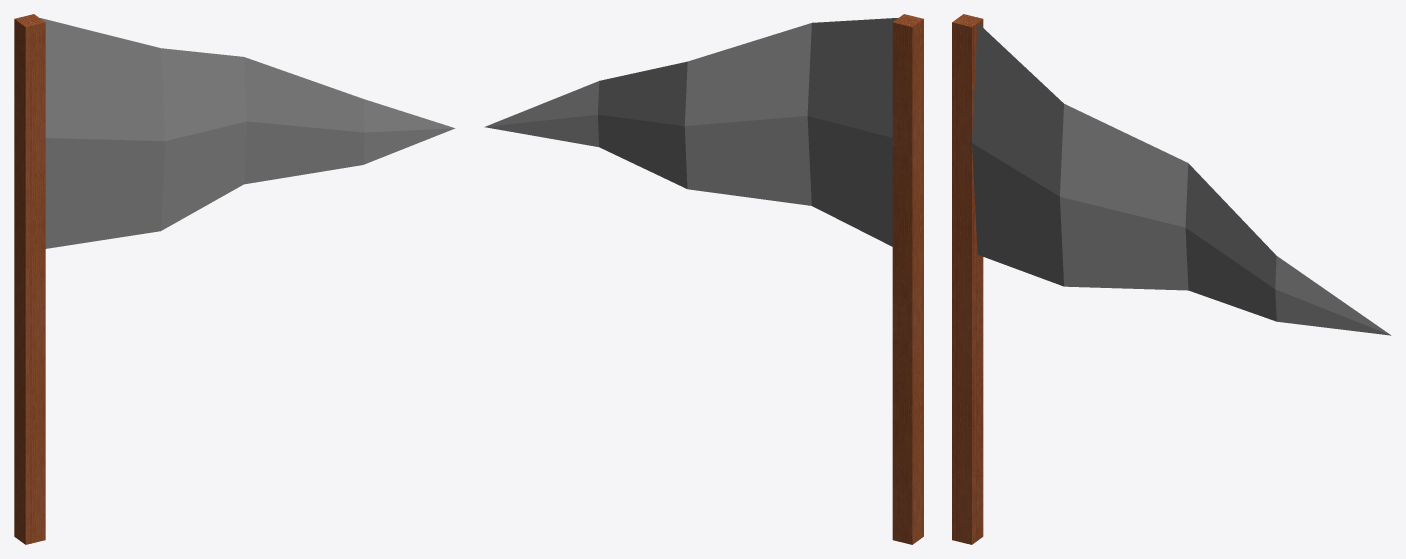
Rendered from flag.FBX.
3 views of the same model, side by side, from view 1: azimuth 30°, elevation 25°; view 2: azimuth 150°, elevation 25°; view 3: azimuth 330°, elevation 25° (orthographic).
Visible parts, largest first — view 1: Line002, Line001; view 2: Line002, Line001; view 3: Line002, Line001.
Boxes of the visible parts, x1,y1,x2,y2 form: Line002: (40, 18, 455, 248); Line001: (14, 14, 45, 544); Line002: (484, 18, 897, 246); Line001: (892, 14, 923, 544); Line002: (972, 23, 1391, 335); Line001: (952, 14, 983, 544).
Bounding box in the file's own units: 43.88 × 49.96 × 4.83.
Materials: 2 (1 with a texture image).
